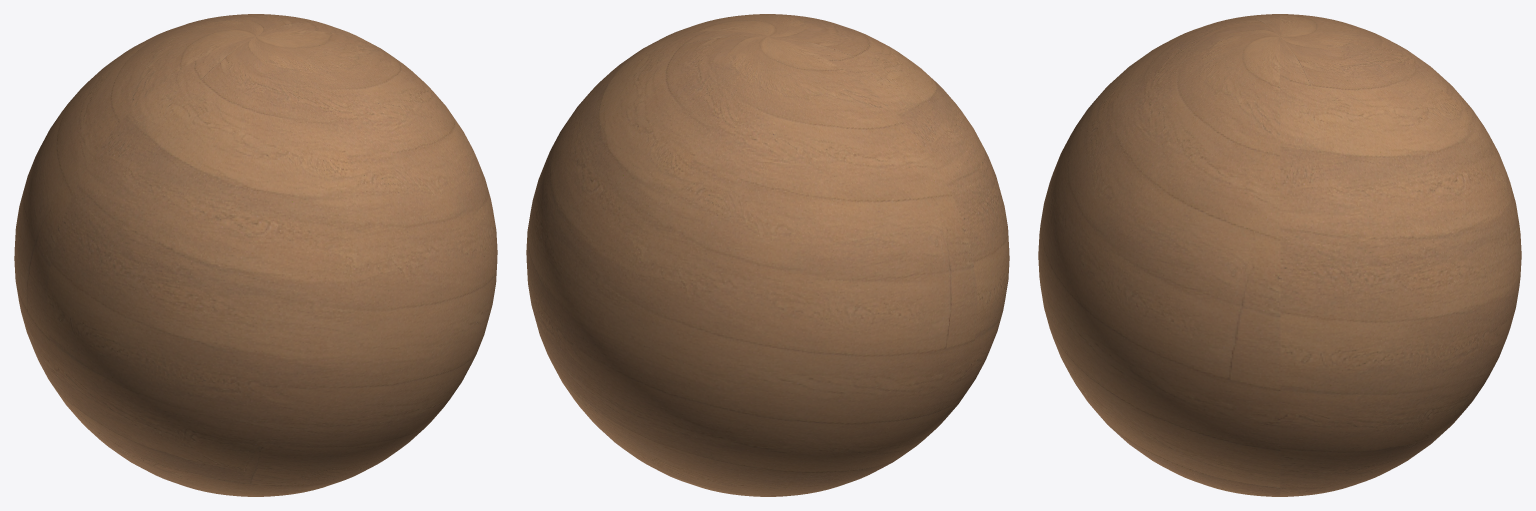
3 renders of one model, left to right at view 1: azimuth 30°, elevation 25°; view 2: azimuth 150°, elevation 25°; view 3: azimuth 270°, elevation 25°, orthographic.
Visible parts, largest first — view 1: Sphere; view 2: Sphere; view 3: Sphere.
Part boxes in pixels (x1,y1,x2,y2): Sphere: (14,14,497,496); Sphere: (526,14,1009,496); Sphere: (1038,14,1521,496).
Bounding box in the file's own units: 1.7 × 1.7 × 1.7.
Materials: 1 (1 with a texture image).
